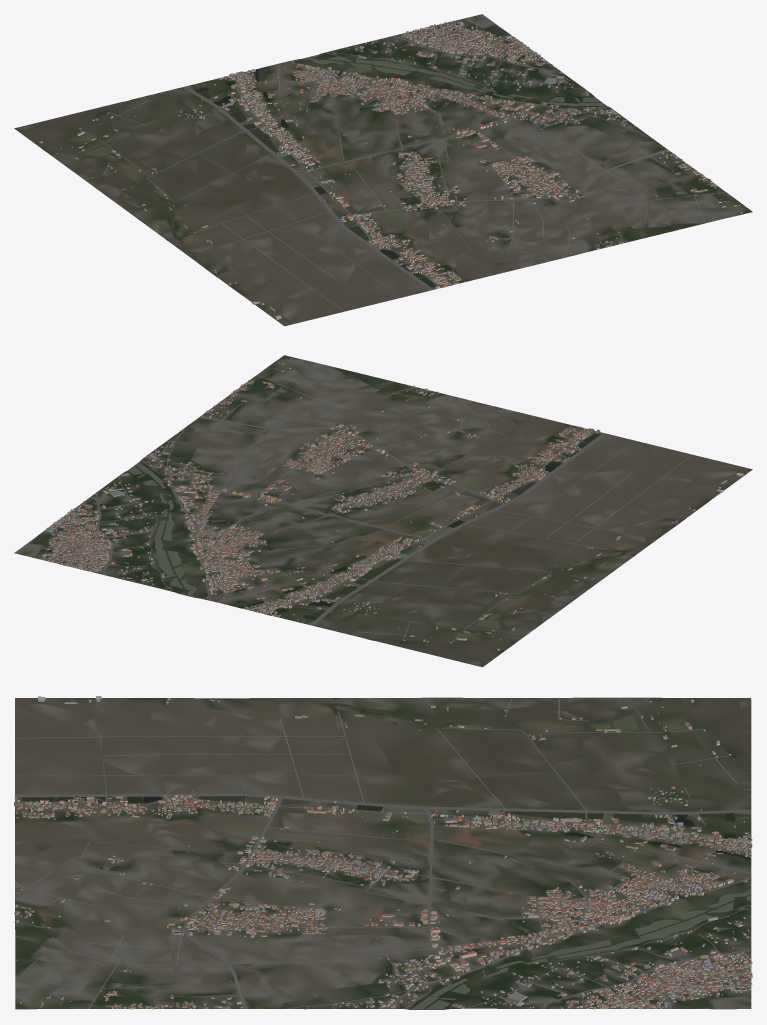
The picture shows the model from 3 angles, top to bottom: view 1: azimuth 30°, elevation 25°; view 2: azimuth 150°, elevation 25°; view 3: azimuth 270°, elevation 25°; orthographic projection. The views are drawn at different scales.
Visible parts, largest first — view 1: ground, buildings, roads, water; view 2: ground, buildings, roads, water; view 3: ground, buildings, roads, water.
Part boxes in pixels (x1=…): ground: x1=14, y1=14, x2=752, y2=326; buildings: x1=38, y1=20, x2=742, y2=319; roads: x1=63, y1=19, x2=732, y2=311; water: x1=65, y1=54, x2=645, y2=287; ground: x1=14, y1=355, x2=752, y2=667; buildings: x1=42, y1=357, x2=743, y2=650; roads: x1=38, y1=365, x2=716, y2=643; water: x1=88, y1=429, x2=670, y2=638; ground: x1=15, y1=697, x2=751, y2=1009; buildings: x1=14, y1=696, x2=752, y2=1009; roads: x1=15, y1=697, x2=751, y2=1008; water: x1=21, y1=698, x2=750, y2=1009.
Bounding box in the file's own units: 2813 × 27.83 × 2814.
